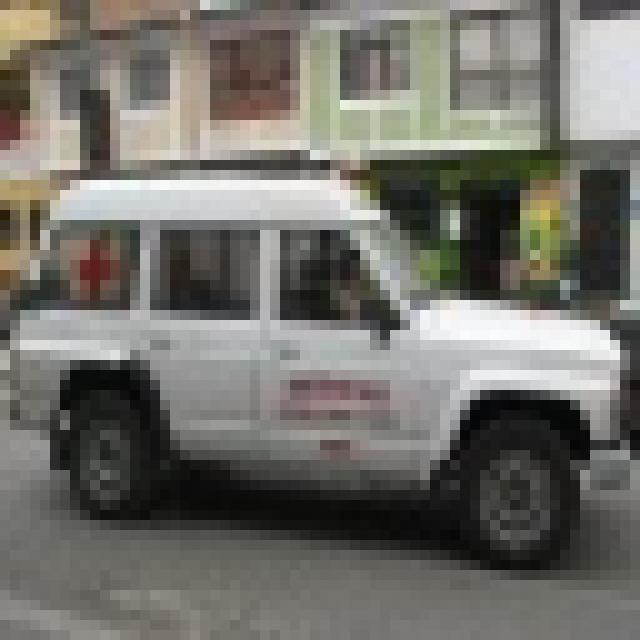Ambulance: (0, 140, 630, 560)
